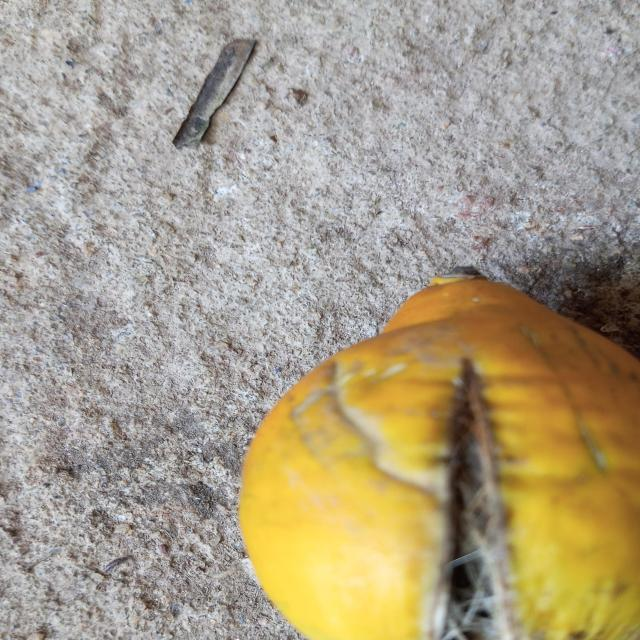damaged: (239, 267, 640, 640)
